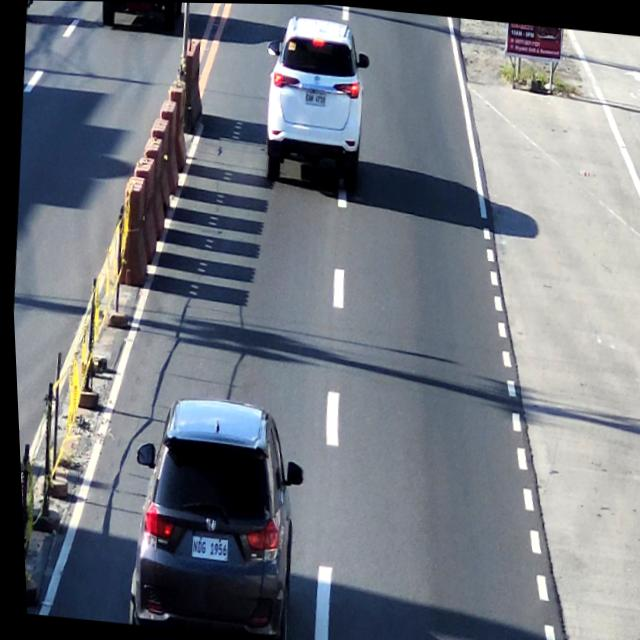Car: (119, 390, 305, 639), (257, 12, 369, 175)
License-Plate: (182, 534, 226, 564), (302, 86, 328, 108)
